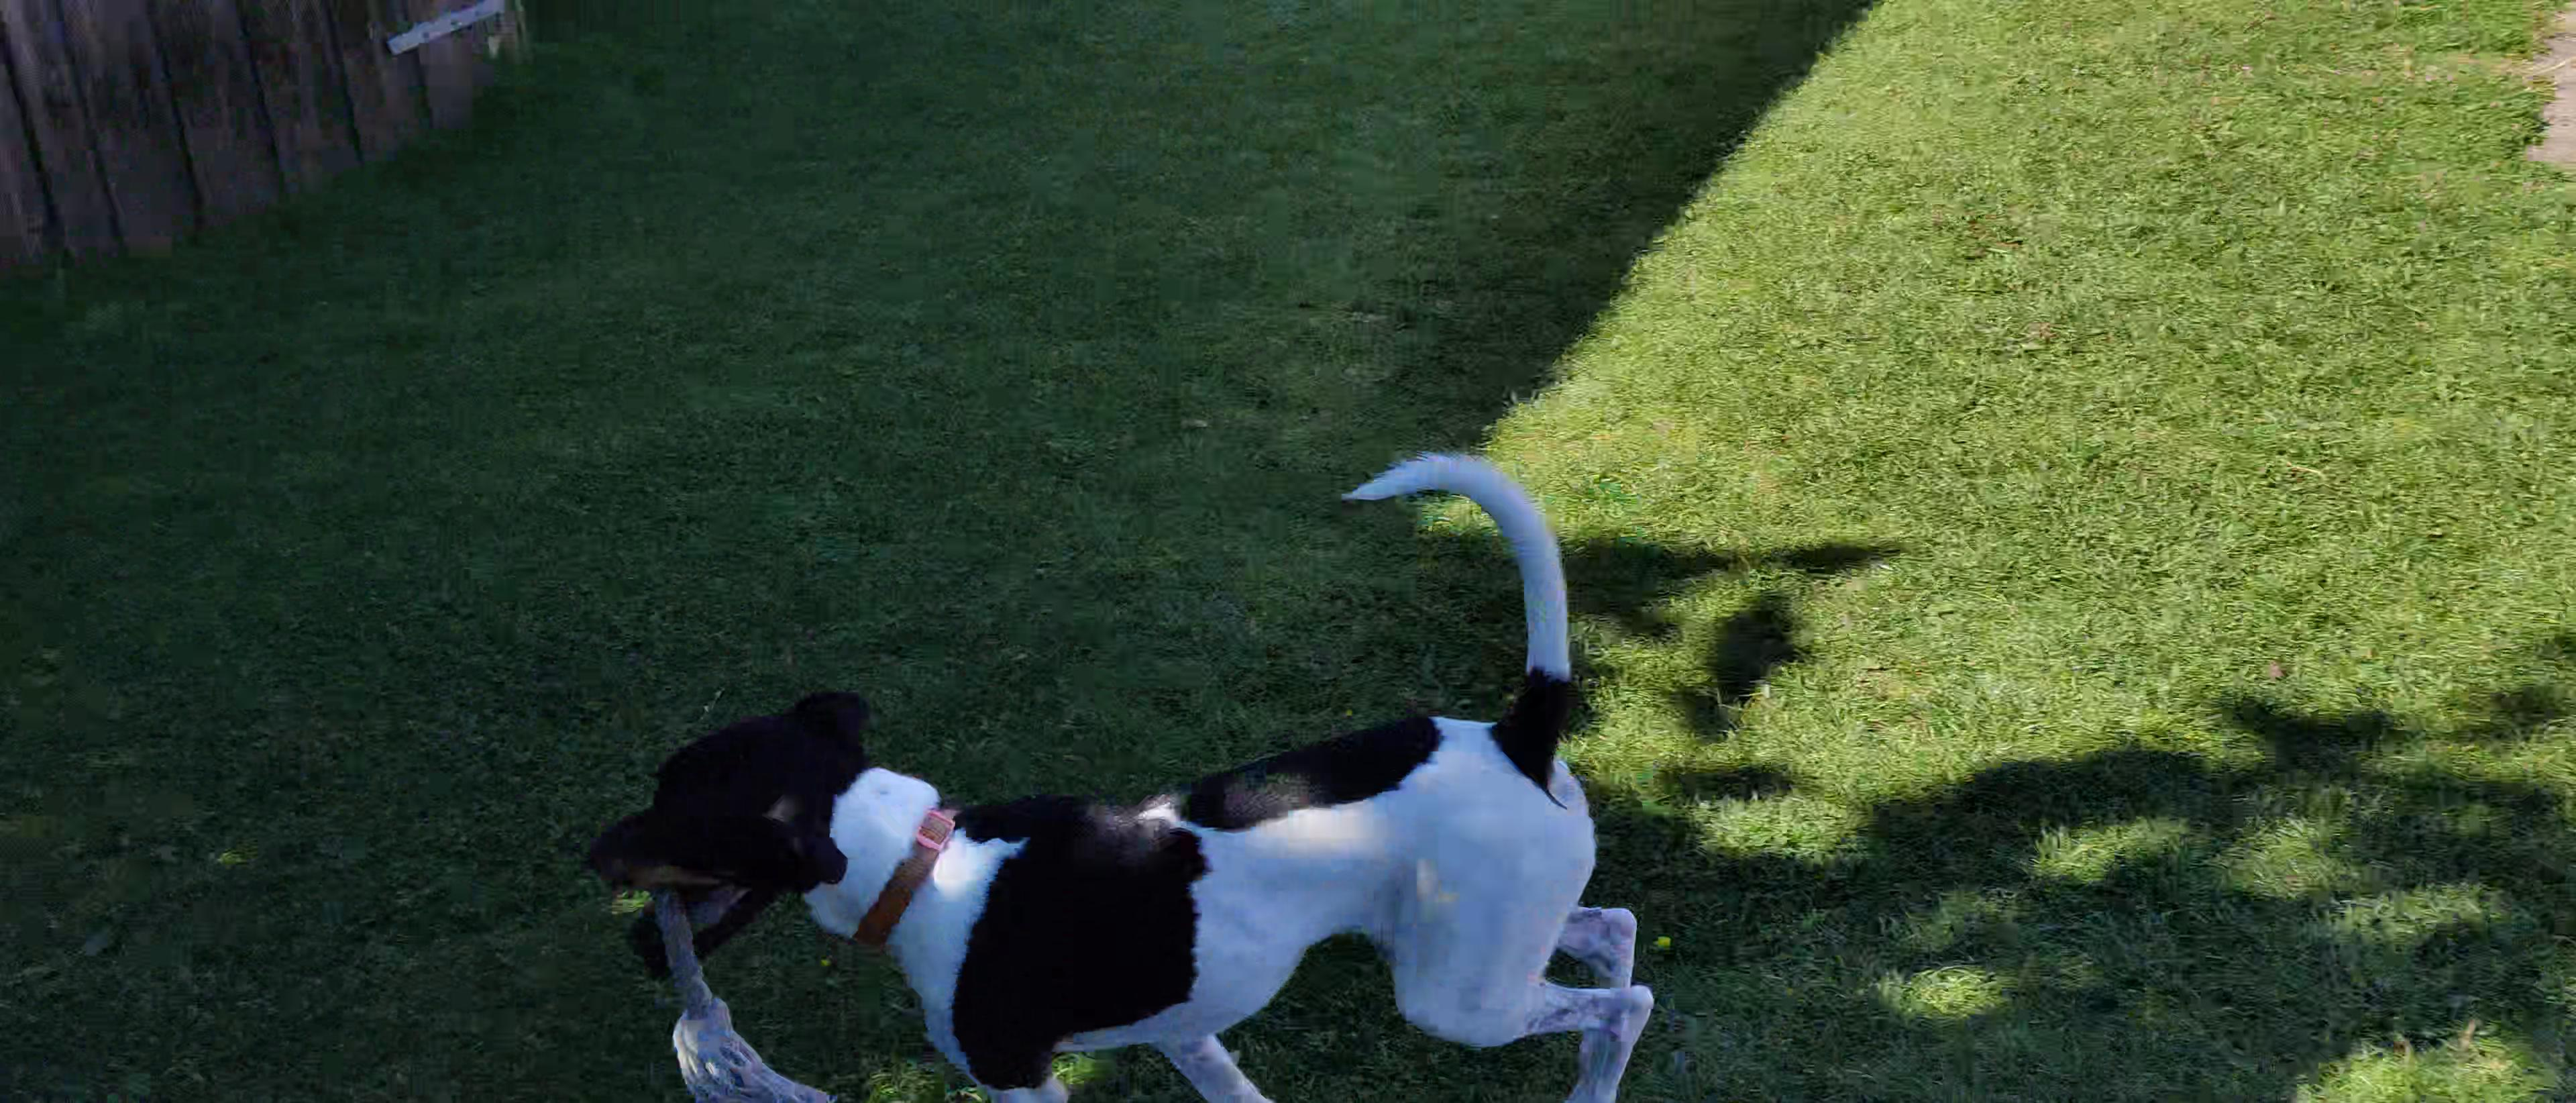Dog: (570, 442, 1656, 1103)
